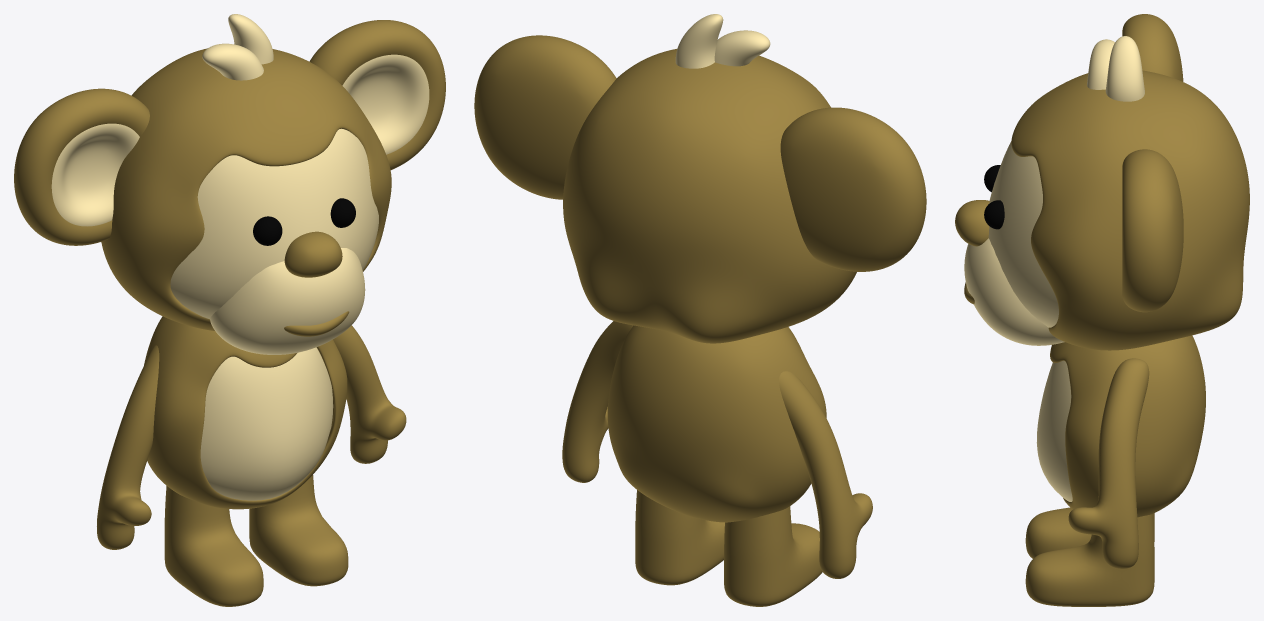
File: Monkey_3d.glb
3 views of the same model, side by side, from view 1: azimuth 30°, elevation 25°; view 2: azimuth 150°, elevation 25°; view 3: azimuth 270°, elevation 25° (orthographic). The views are drawn at different scales.
Parts seen in each view (by area): view 1: Cube.106, Cube.105, Cube.113, Cube.109, Cube.117, Cube.114, Cube.115, Cube.110, Cube.107, Cube.108, Cube.112, Sphere.025 (+2 smaller); view 2: Cube.106, Cube.109, Cube.114, Cube.117, Cube.115, Cube.111, Cube.112; view 3: Cube.106, Cube.114, Cube.109, Cube.117, Cube.115, Cube.105, Cube.107, Cube.113, Cube.111, Cube.108, Cube.112, Sphere.025.
Boxes of the visible parts, left/top/right/bottom form: Cube.106: left=101, top=48, right=391, bottom=330; Cube.105: left=170, top=128, right=378, bottom=319; Cube.113: left=200, top=347, right=333, bottom=500; Cube.109: left=14, top=20, right=445, bottom=245; Cube.117: left=164, top=475, right=348, bottom=606; Cube.114: left=144, top=316, right=347, bottom=509; Cube.115: left=97, top=325, right=406, bottom=549; Cube.110: left=51, top=54, right=429, bottom=226; Cube.107: left=210, top=248, right=365, bottom=354; Cube.108: left=284, top=231, right=342, bottom=277; Cube.112: left=202, top=43, right=263, bottom=80; Sphere.025: left=253, top=198, right=355, bottom=245; Cube.106: left=563, top=49, right=856, bottom=343; Cube.109: left=474, top=35, right=926, bottom=271; Cube.114: left=607, top=325, right=826, bottom=522; Cube.117: left=635, top=490, right=822, bottom=606; Cube.115: left=562, top=321, right=872, bottom=578; Cube.111: left=675, top=14, right=723, bottom=68; Cube.112: left=714, top=30, right=770, bottom=66; Cube.106: left=1011, top=70, right=1249, bottom=350; Cube.114: left=1050, top=335, right=1205, bottom=517; Cube.109: left=1122, top=14, right=1183, bottom=312; Cube.117: left=1025, top=507, right=1154, bottom=606; Cube.115: left=1068, top=358, right=1149, bottom=568; Cube.105: left=988, top=141, right=1058, bottom=327; Cube.107: left=964, top=238, right=1064, bottom=345; Cube.113: left=1036, top=360, right=1072, bottom=501; Cube.111: left=1105, top=36, right=1144, bottom=101; Cube.108: left=955, top=200, right=989, bottom=246; Cube.112: left=1087, top=39, right=1114, bottom=89; Sphere.025: left=984, top=165, right=1004, bottom=229.
Bounding box in the file's own units: 4.72 × 5.85 × 2.89.
